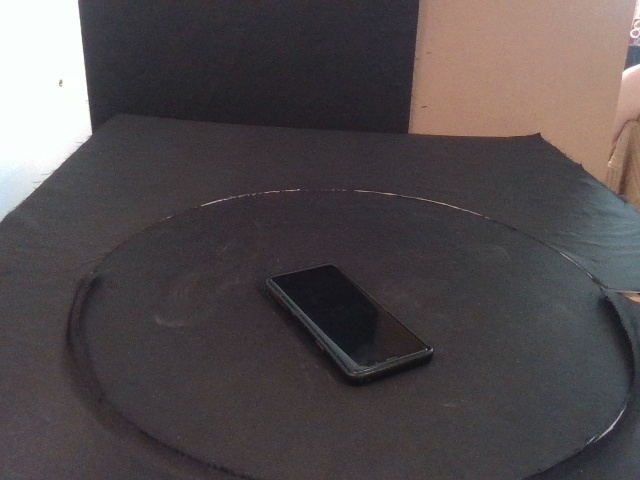phone: (265, 263, 434, 385)
